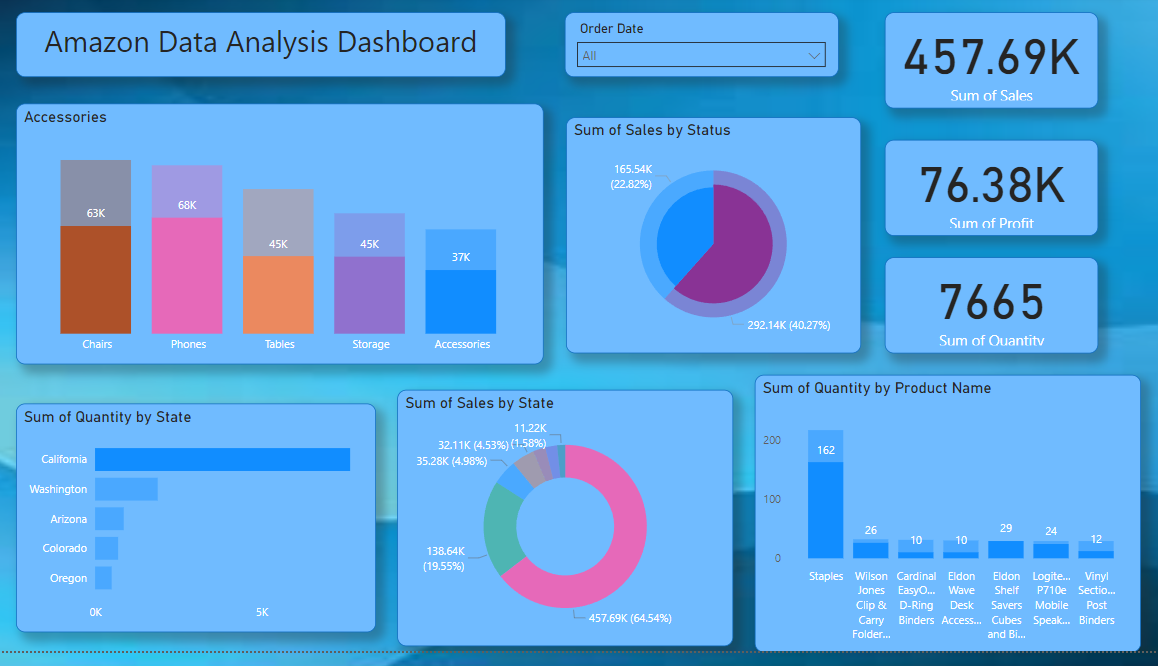

The page's visual inventory and layout, read from the dashboard file:
{"tool":"powerbi","page":{"name":"Page 1","canvas":[1280,720],"ordinal":0},"visuals":[{"type":"columnChart","fields":{"Category":["Walmart.Category"],"Y":["Sum(Walmart.Sales)"]},"box":[22,118,579.1,286.8],"z":0},{"type":"card","fields":{"Values":["Sum(Walmart.Profit)"]},"box":[975.6,157.8,234.6,105.7],"z":1},{"type":"textbox","box":[22,17.8,537.9,71.4],"z":2},{"type":"card","fields":{"Values":["Sum(Walmart.Sales)"]},"box":[975.6,17.8,234.6,105.7],"z":3},{"type":"card","fields":{"Values":["Sum(Walmart.Quantity)"]},"box":[975.6,286.8,234.6,105.7],"z":4},{"type":"clusteredBarChart","fields":{"Y":["Sum(Walmart.Quantity)"],"Category":["Walmart.State"]},"box":[22,447.3,395.2,251.1],"z":5},{"type":"donutChart","fields":{"Category":["Walmart.State"],"Y":["Sum(Walmart.Sales)"]},"box":[440.5,432.2,369.1,281.3],"z":6},{"type":"pieChart","fields":{"Category":["Walmart.Status"],"Y":["Sum(Walmart.Sales)"]},"box":[625.7,133.1,323.8,259.3],"z":7},{"type":"slicer","fields":{"Values":["Walmart.Order Date"]},"box":[624.4,17.8,300.5,71.4],"z":8},{"type":"columnChart","fields":{"Category":["Walmart.Product Name"],"Y":["Sum(Walmart.Quantity)"]},"box":[832.9,415.8,424,304.6],"z":9}]}

Visuals, with their boxes in screenshot pixels (x1, y1, x2, y2), scaled from the page's 1280x720 canvas onto the 1158x666 screenshot:
columnChart - Walmart.Category x Sum(Walmart.Sales): box(20, 109, 544, 374)
card - Sum(Walmart.Profit): box(883, 146, 1095, 244)
textbox: box(20, 16, 507, 83)
card - Sum(Walmart.Sales): box(883, 16, 1095, 114)
card - Sum(Walmart.Quantity): box(883, 265, 1095, 363)
clusteredBarChart - Sum(Walmart.Quantity) x Walmart.State: box(20, 414, 377, 646)
donutChart - Walmart.State x Sum(Walmart.Sales): box(399, 400, 732, 660)
pieChart - Walmart.Status x Sum(Walmart.Sales): box(566, 123, 859, 363)
slicer - Walmart.Order Date: box(565, 16, 837, 83)
columnChart - Walmart.Product Name x Sum(Walmart.Quantity): box(754, 385, 1137, 665)
